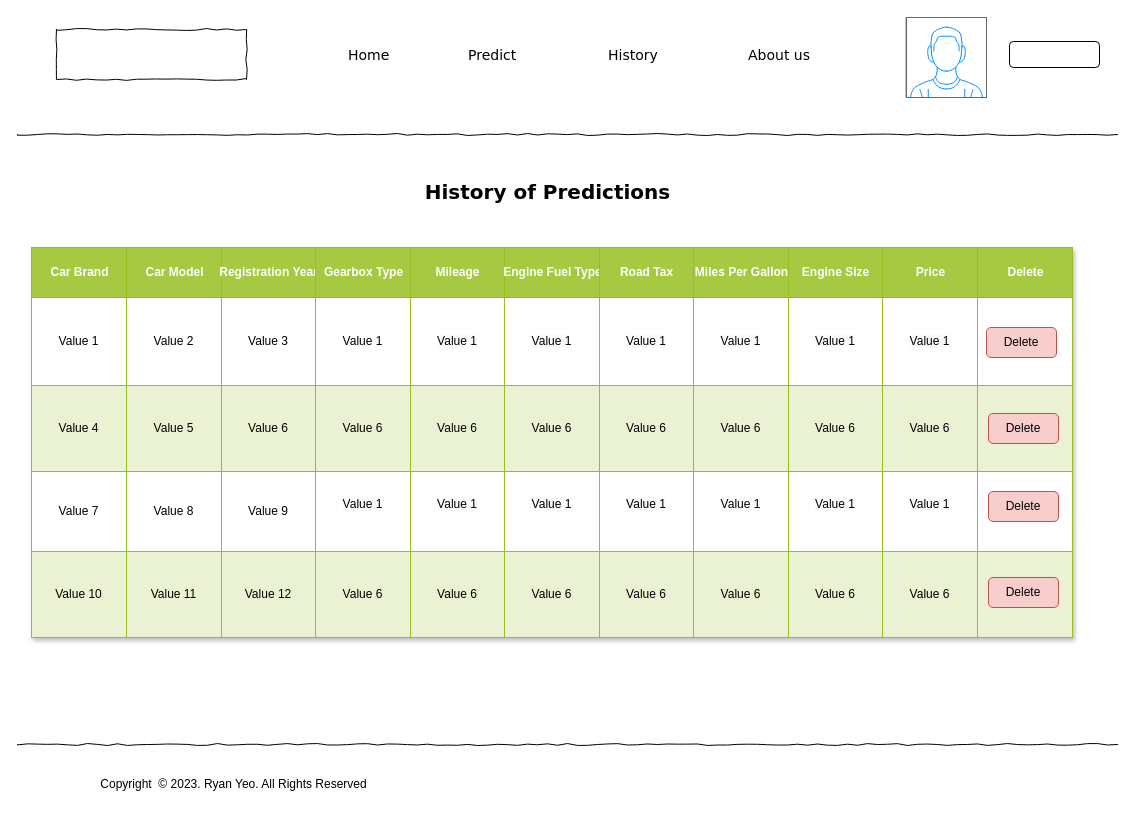
Image size: 1135x817. Some labels were removed from this diagram. The centre of each missing label's shape, as x and y in pixels:
"Log Out" belongs at point 1054,54.
"LOGO" belongs at point 151,54.
